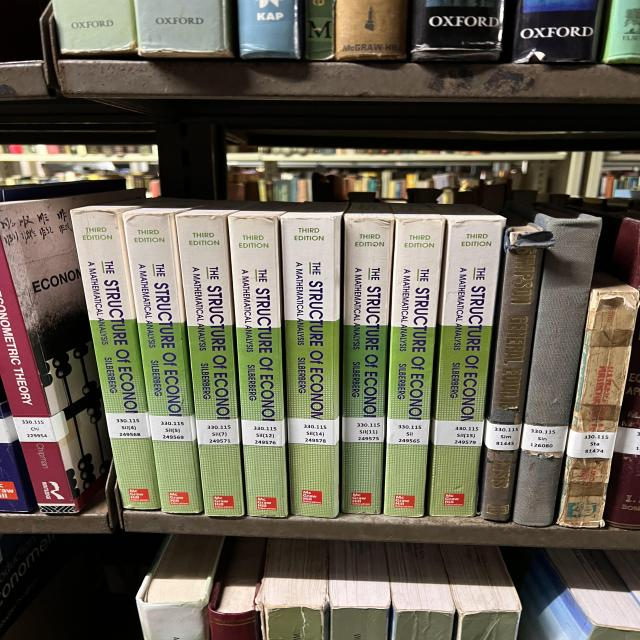Book: (0, 190, 142, 512), (513, 210, 602, 526), (72, 200, 160, 510), (123, 205, 202, 514), (427, 205, 505, 516), (480, 224, 555, 521), (175, 202, 245, 516), (280, 202, 347, 518), (228, 202, 293, 518), (557, 275, 638, 528), (383, 204, 445, 516), (342, 204, 395, 514), (518, 549, 640, 640), (137, 534, 225, 640), (603, 310, 640, 529), (440, 545, 522, 640), (257, 539, 328, 640), (387, 542, 455, 640), (328, 541, 390, 640), (208, 538, 267, 640), (512, 0, 603, 64), (133, 0, 233, 58), (410, 0, 503, 61), (52, 0, 137, 55), (335, 0, 407, 61), (0, 400, 37, 512), (238, 0, 302, 59), (602, 0, 640, 64), (612, 218, 640, 290), (305, 0, 335, 60), (473, 390, 475, 392)
Label: (13, 415, 67, 442), (567, 430, 617, 459), (288, 418, 340, 445), (433, 420, 483, 446), (522, 424, 568, 452), (148, 415, 195, 441), (105, 412, 150, 439), (195, 419, 240, 445), (485, 420, 522, 451), (242, 420, 285, 446), (387, 419, 430, 445), (342, 418, 385, 442), (0, 414, 18, 444), (0, 404, 10, 412)
